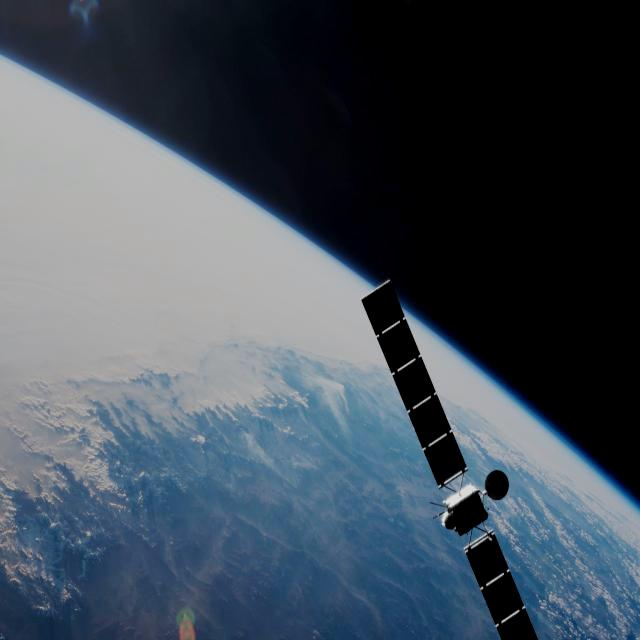medium_debris: (357, 277, 555, 640)
